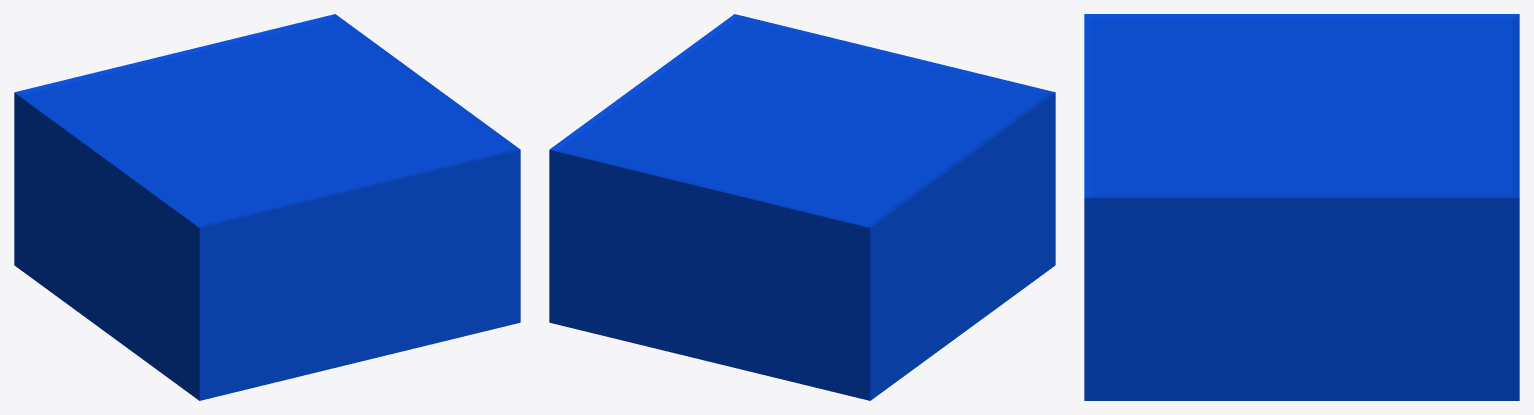
File: Torres 3 barrera torre.fbx
3 renders of one model, left to right at view 1: azimuth 30°, elevation 25°; view 2: azimuth 150°, elevation 25°; view 3: azimuth 270°, elevation 25°, orthographic. The views are drawn at different scales.
Visible parts, largest first — view 1: Cube; view 2: Cube; view 3: Cube.
Part boxes in pixels (bbox=[...]): Cube: bbox=[14, 14, 520, 400]; Cube: bbox=[549, 14, 1055, 400]; Cube: bbox=[1084, 14, 1519, 400].
Size of the model in its own units: 12 by 6.17 by 12.
